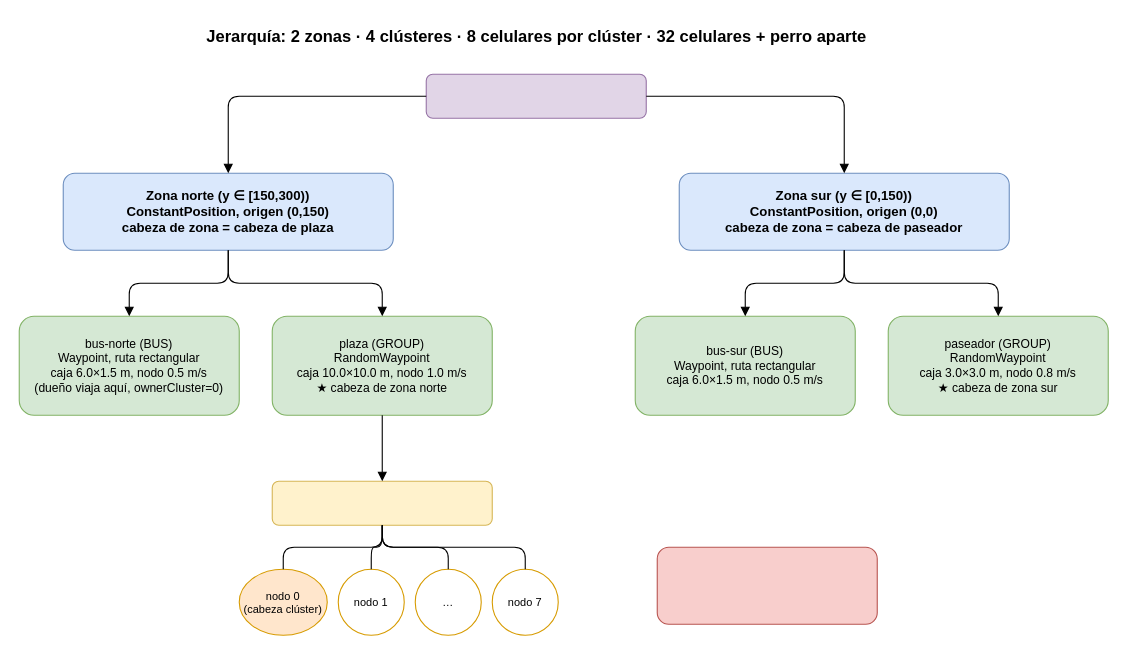
The diagram is 1128 pixels wide and 655 high, and some of its shapes have lost their labels. Here are the shapes that lost their labels. From the top down, the centre of each, then its label:
At [535,95]: "Escenario 500 × 300 m".
At [381,502]: "8 celulares (RandomWalk2d dentro de la caja del clúster)".
At [766,585]: "Collar del perro nodo aparte, sin clúster RandomWalk2d 0.3 m/s (o fijo)".
